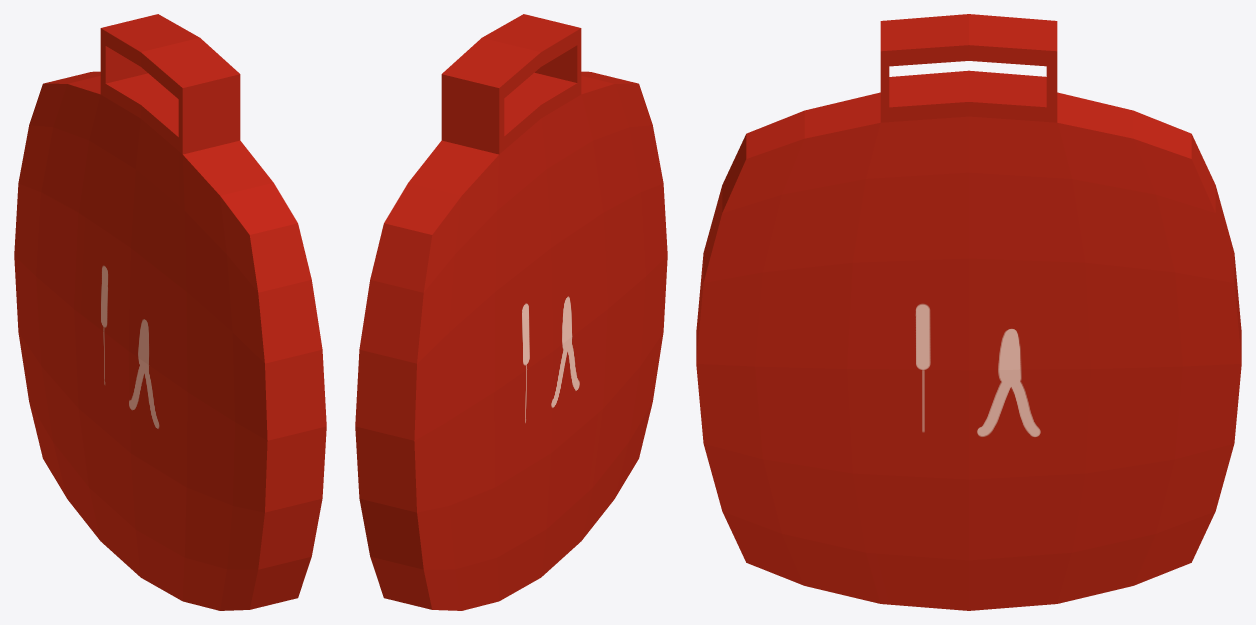
The model's file is toolkit.gltf.
The picture shows the model from 3 angles, left to right: view 1: azimuth 30°, elevation 25°; view 2: azimuth 150°, elevation 25°; view 3: azimuth 270°, elevation 25°; orthographic projection. The views are drawn at different scales.
Parts seen in each view (by area): view 1: Cube; view 2: Cube; view 3: Cube.
Boxes of the visible parts, left/top/right/bottom form: Cube: left=14, top=14, right=326, bottom=610; Cube: left=355, top=14, right=667, bottom=610; Cube: left=696, top=14, right=1241, bottom=610.
Size of the model in its own units: 0.3672 by 2.2 by 1.92.
Materials: 1 (1 with a texture image).
